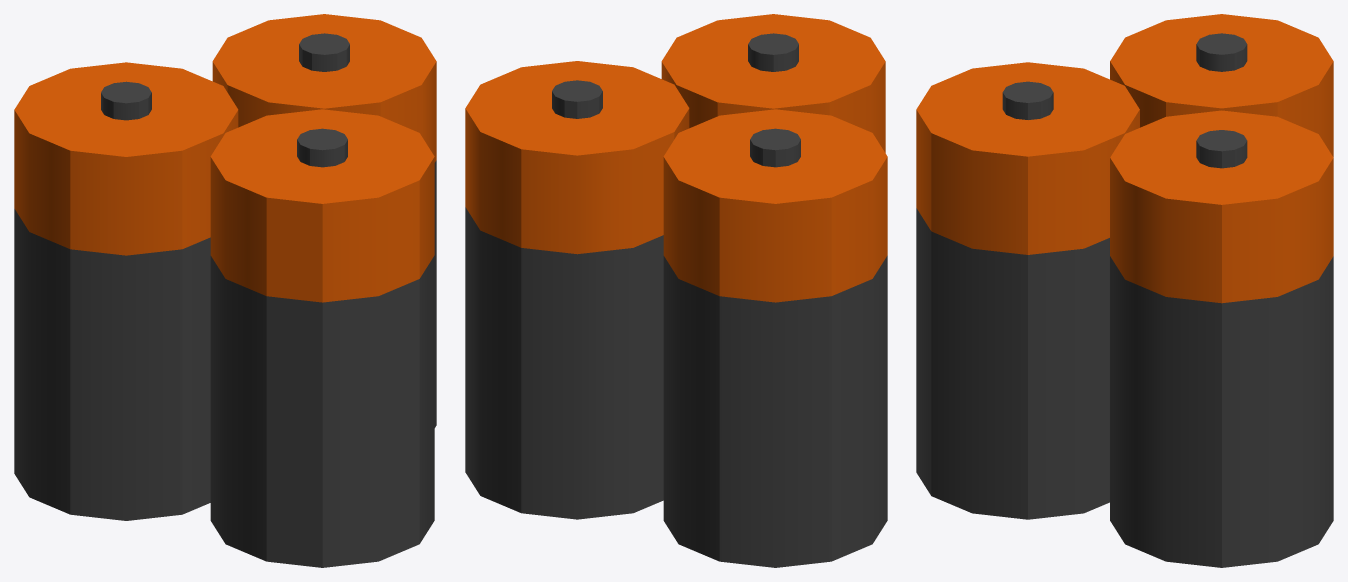
Rendered from pilas.fbx.
The picture shows the model from 3 angles, left to right: view 1: azimuth 30°, elevation 25°; view 2: azimuth 150°, elevation 25°; view 3: azimuth 270°, elevation 25°; orthographic projection.
Parts seen in each view (by area): view 1: Cylinder.002; view 2: Cylinder.002; view 3: Cylinder.002.
Part boxes in pixels (box(x1,y1,x2,y2)): Cylinder.002: box(14, 14, 436, 567); Cylinder.002: box(465, 14, 887, 567); Cylinder.002: box(916, 14, 1333, 567).
Bounding box in the file's own units: 0.1601 × 0.1487 × 0.1479.
